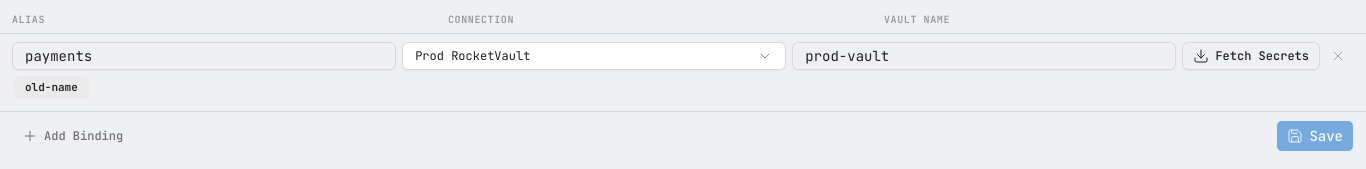
Test: ExternalSecretsTab › replaces (not merges) an existing secretNames list on a second fetch
Expected: the text "old-name" is shown, left=14, top=76, right=89, bottom=98
Click the button "Fetch Secrets" at (1251, 56), box left=1182, top=42, right=1320, bottom=70
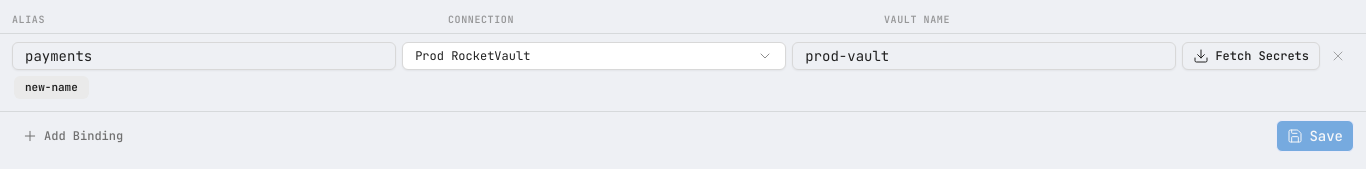
Expected: the text "new-name" is shown, left=14, top=76, right=89, bottom=98
Expected: the text "old-name" is gone
